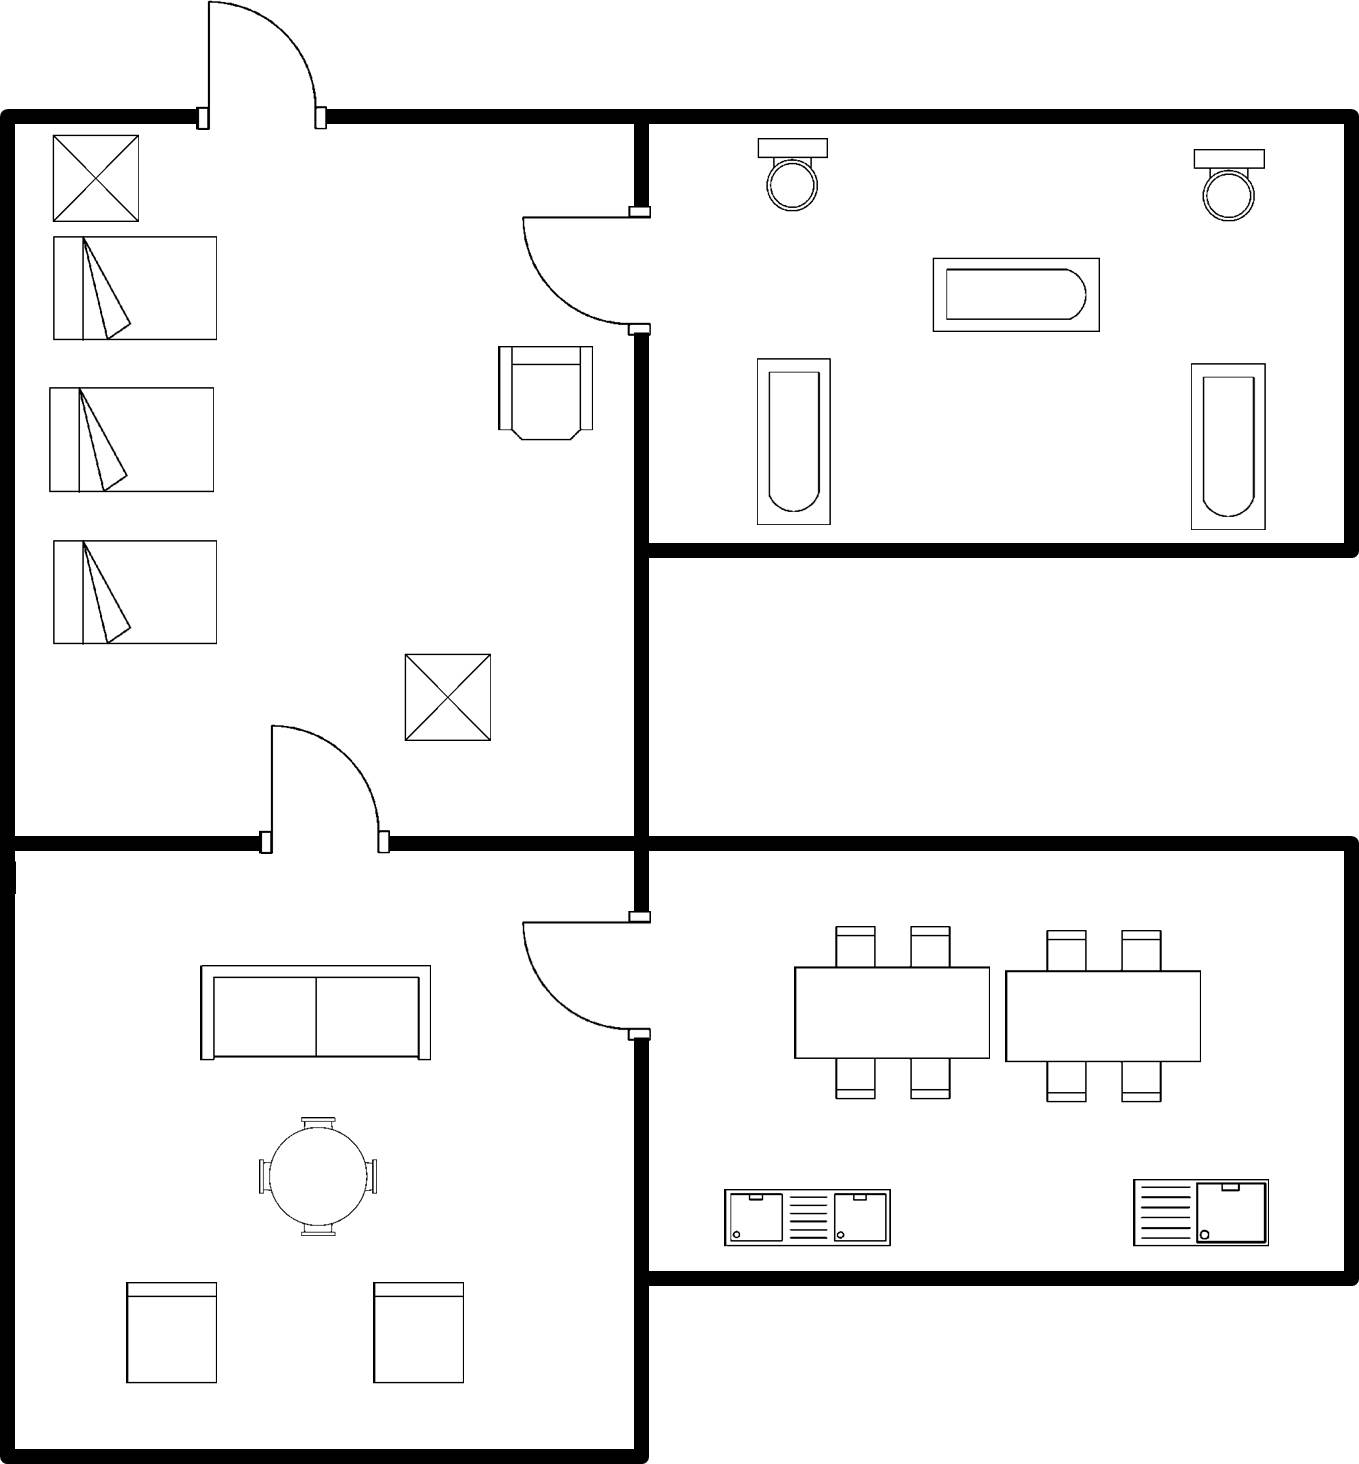armchair: (484, 337, 601, 450)
bed: (40, 527, 226, 655), (43, 228, 224, 354), (41, 381, 224, 504)
coffee_table: (389, 644, 503, 751), (39, 130, 150, 233)
dining_table: (787, 915, 1000, 1115), (1000, 915, 1210, 1115)
large_sink: (746, 130, 847, 215), (1183, 138, 1269, 231)
large_sofa: (191, 951, 443, 1080)
round_table: (243, 1103, 391, 1247)
sink: (1123, 1170, 1283, 1258)
small_sofa: (114, 1270, 229, 1395), (363, 1268, 473, 1391)
tub: (923, 245, 1116, 347), (1177, 350, 1280, 535), (746, 345, 840, 534)
twin_sink: (714, 1175, 901, 1254)
